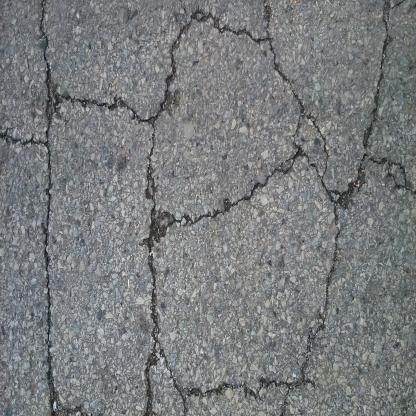Cracks: (139, 0, 342, 416), (0, 0, 72, 415), (330, 0, 415, 215), (43, 79, 163, 135)
